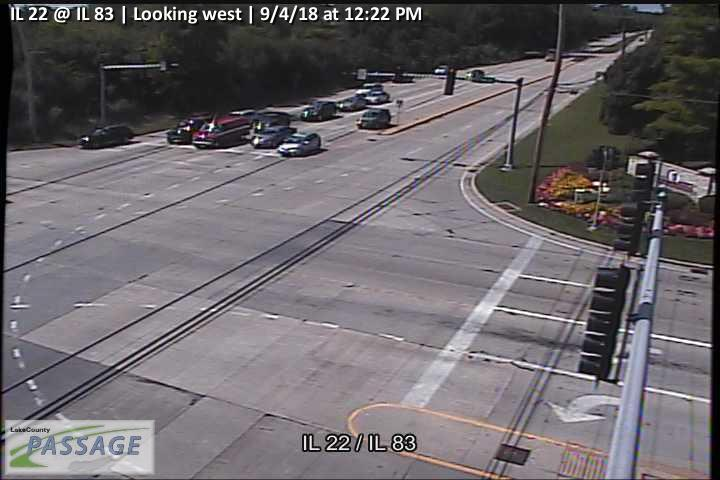Sedan: (189, 112, 251, 149), (165, 112, 224, 146), (75, 125, 137, 150), (277, 131, 322, 157), (248, 126, 297, 148), (249, 110, 292, 132), (356, 107, 392, 131), (300, 99, 337, 122), (337, 93, 367, 111), (367, 88, 390, 103)
